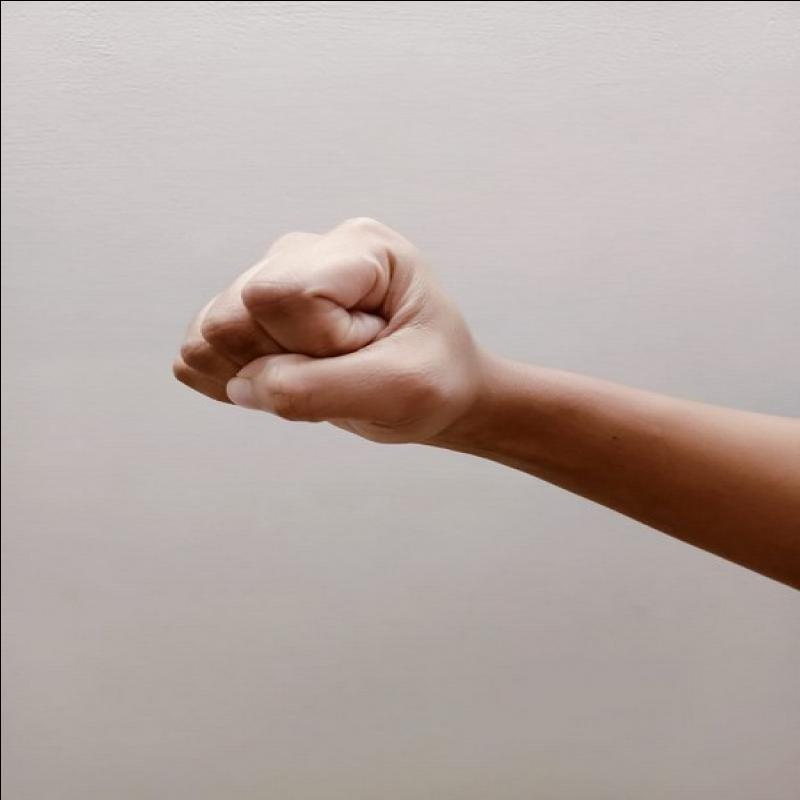Mushti: (161, 208, 492, 455)
